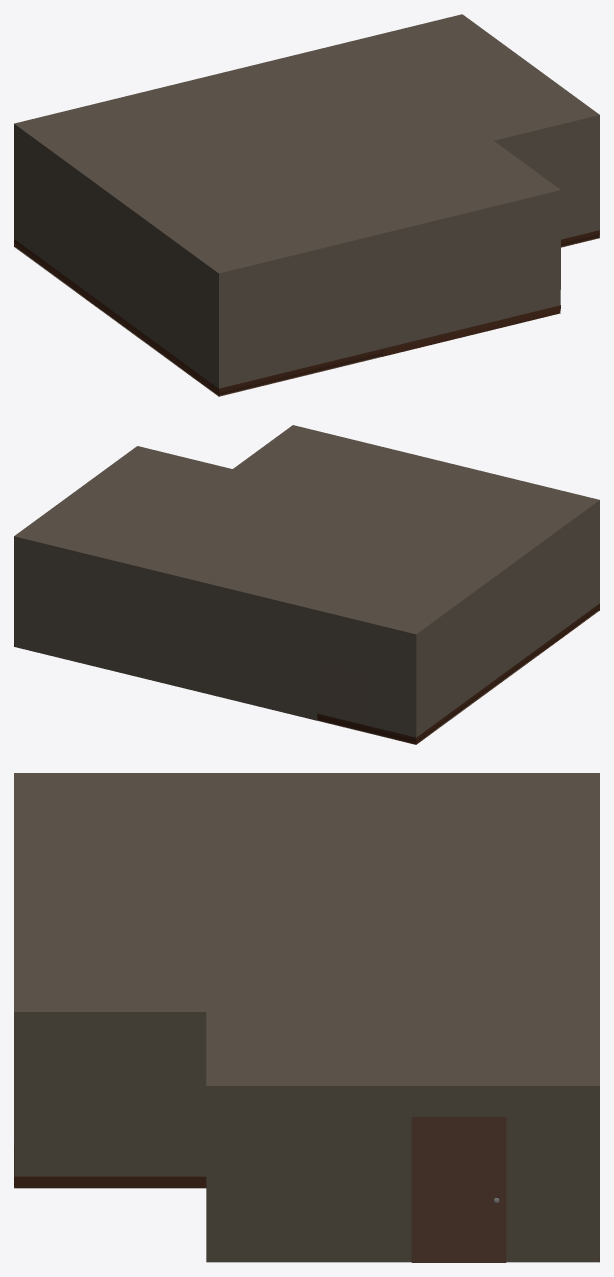
The model's file is RoomTwo.fbx.
3 views of the same model, one above another, from view 1: azimuth 30°, elevation 25°; view 2: azimuth 150°, elevation 25°; view 3: azimuth 270°, elevation 25° (orthographic). The views are drawn at different scales.
Visible parts, largest first — view 1: Plane; view 2: Plane; view 3: Plane.
Part boxes in pixels (box(x1,y1,x2,y2)): Plane: box(14, 14, 599, 396); Plane: box(14, 425, 599, 744); Plane: box(14, 773, 599, 1262).
Bounding box in the file's own units: 815 × 215 × 645.
